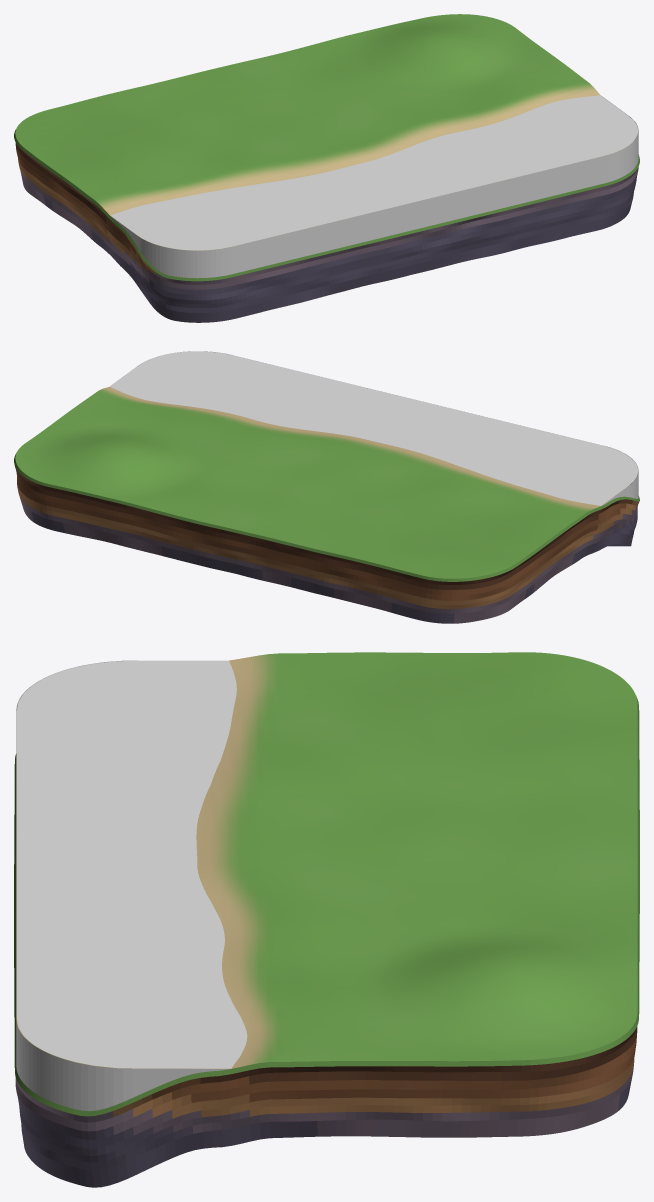
File: terrain_level09.fbx
3 renders of one model, top to bottom at view 1: azimuth 30°, elevation 25°; view 2: azimuth 150°, elevation 25°; view 3: azimuth 270°, elevation 25°, orthographic. The views are drawn at different scales.
Parts seen in each view (by area): view 1: Ground, Water_sea; view 2: Ground, Water_sea; view 3: Ground, Water_sea.
Boxes of the visible parts, x1,y1,x2,y2 form: Ground: (14, 14, 639, 322); Water_sea: (110, 95, 638, 278); Ground: (14, 386, 639, 623); Water_sea: (110, 351, 638, 505); Ground: (14, 652, 639, 1187); Water_sea: (16, 660, 247, 1111).
Bounding box in the file's own units: 14.07 × 2.51 × 9.07.
